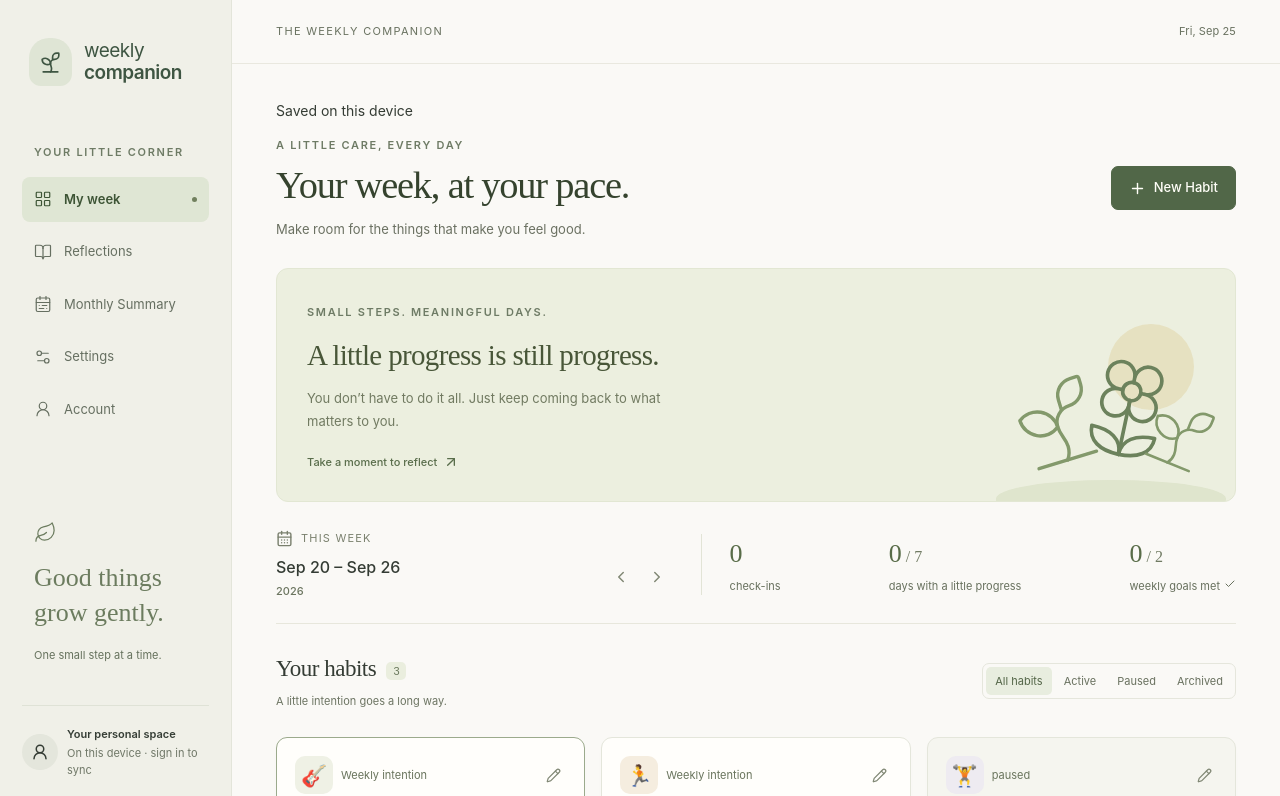
rejects an invalid timezone without changing saved settings
Click the button "Settings": (116, 357) [22,334,209,380]
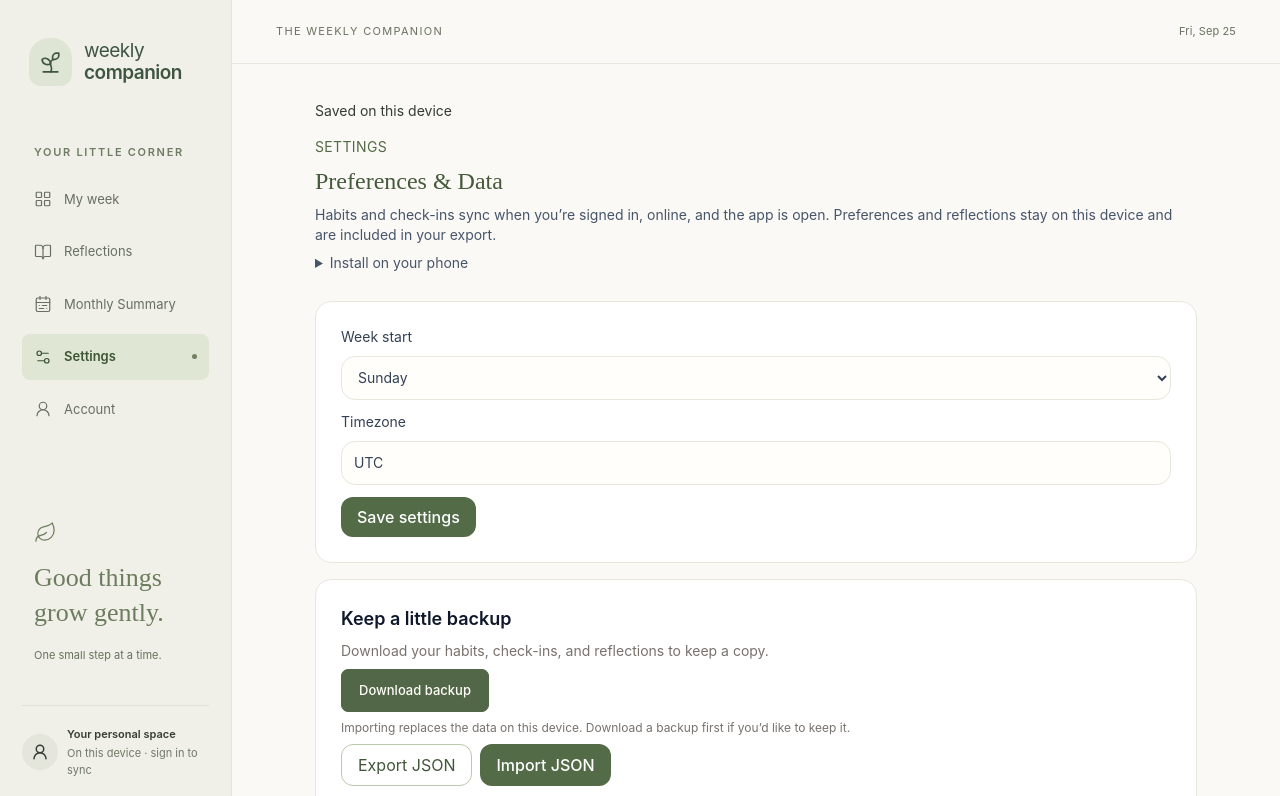
Replace the text in the field labelled "Timezone" with "not/a-timezone": (756, 462) [341,440,1171,484]
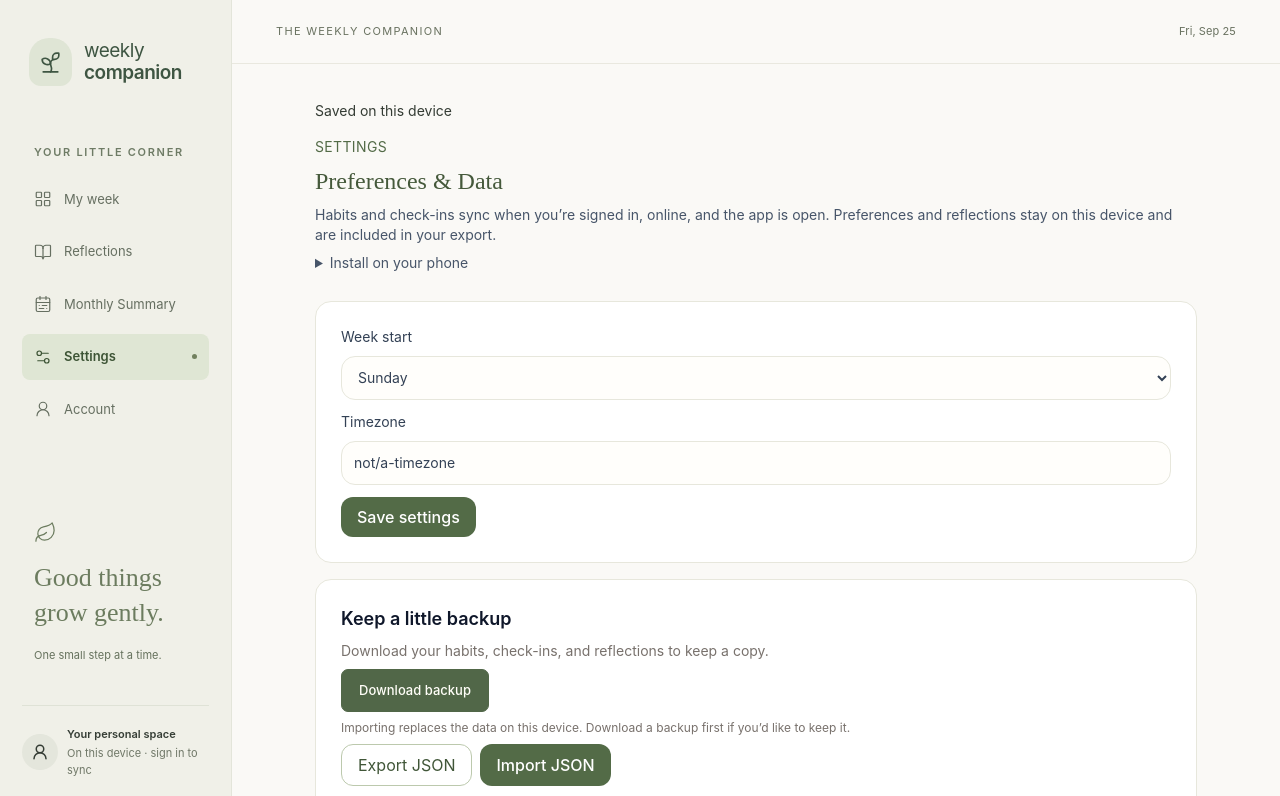
Click the button "Save settings": (408, 516) [341,496,476,536]
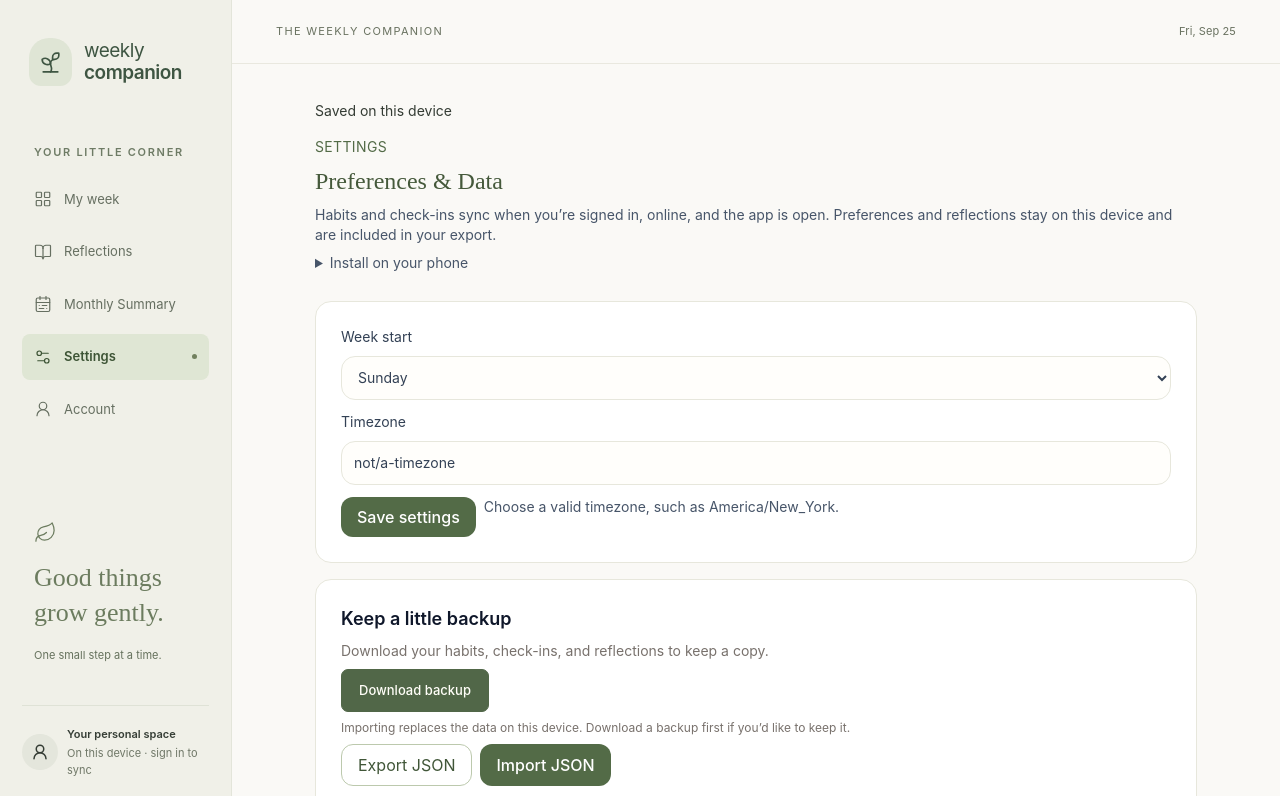
Now the text "Choose a valid timezone, such as America/New_York." is shown, box [484,498,839,514]
